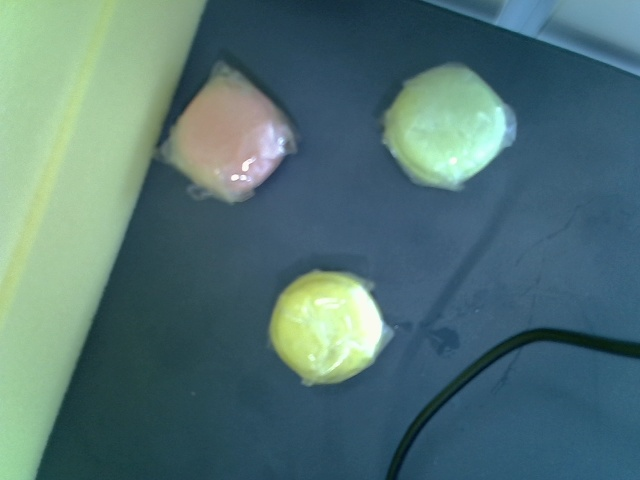씨앗: (384, 64, 507, 188), (269, 270, 385, 382), (176, 79, 286, 196)
